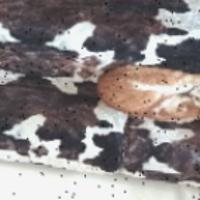asleep: (96, 64, 200, 123)
